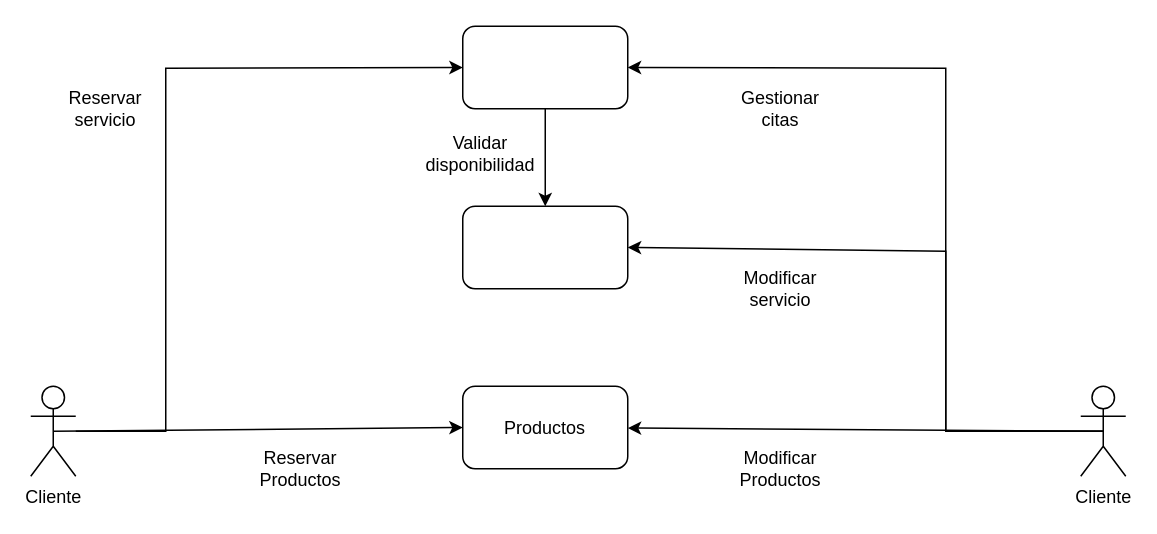
Some shapes in this 1157 by 534 pixel diagram are drawn without their labels. Each missing label, with the centre of its shape:
Citas: point 544,67
Servicio: point 544,247
